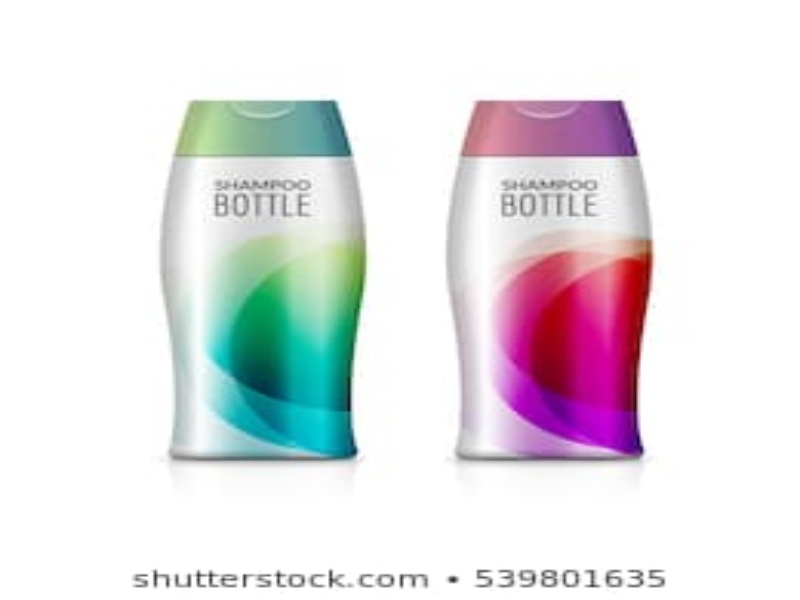shampoo-bottle: (439, 95, 659, 468), (154, 92, 370, 469)
